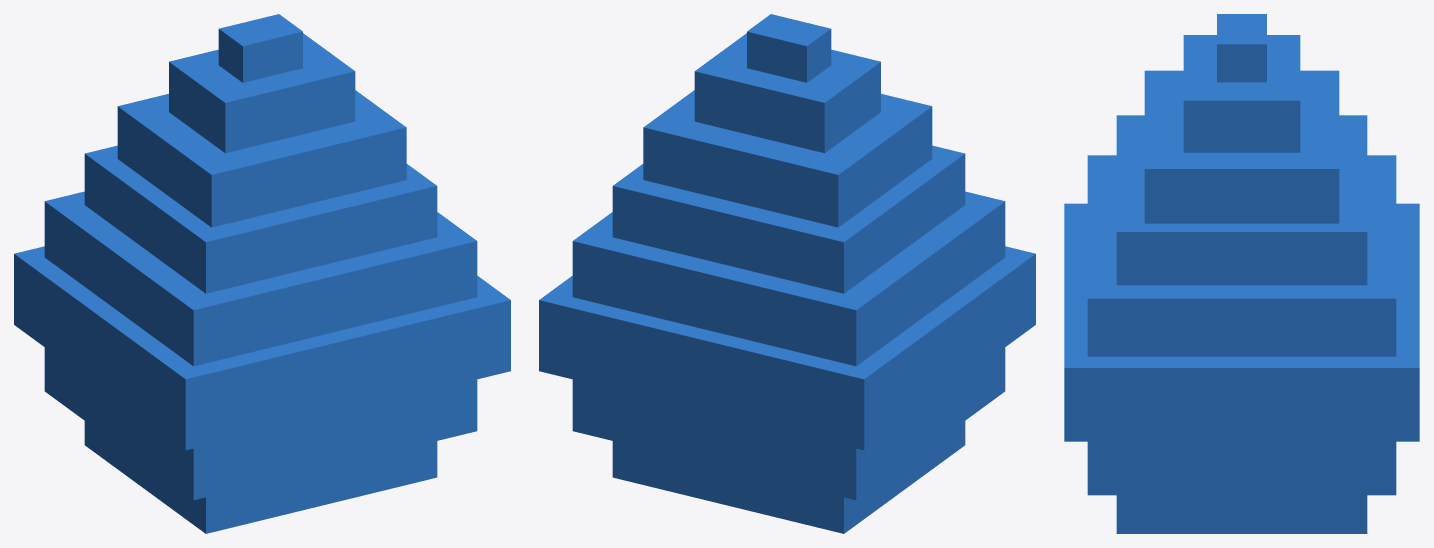
File: 파란물방울 1.fbx
The picture shows the model from 3 angles, left to right: view 1: azimuth 30°, elevation 25°; view 2: azimuth 150°, elevation 25°; view 3: azimuth 270°, elevation 25°; orthographic projection. The views are drawn at different scales.
Parts seen in each view (by area): view 1: Box003; view 2: Box003; view 3: Box003.
Part boxes in pixels (x1,y1,x2,y2): Box003: (14, 14, 510, 533); Box003: (539, 14, 1035, 533); Box003: (1064, 14, 1419, 533).
Bounding box in the file's own units: 40.25 × 51.02 × 36.83.
1 material, 1 textured.
